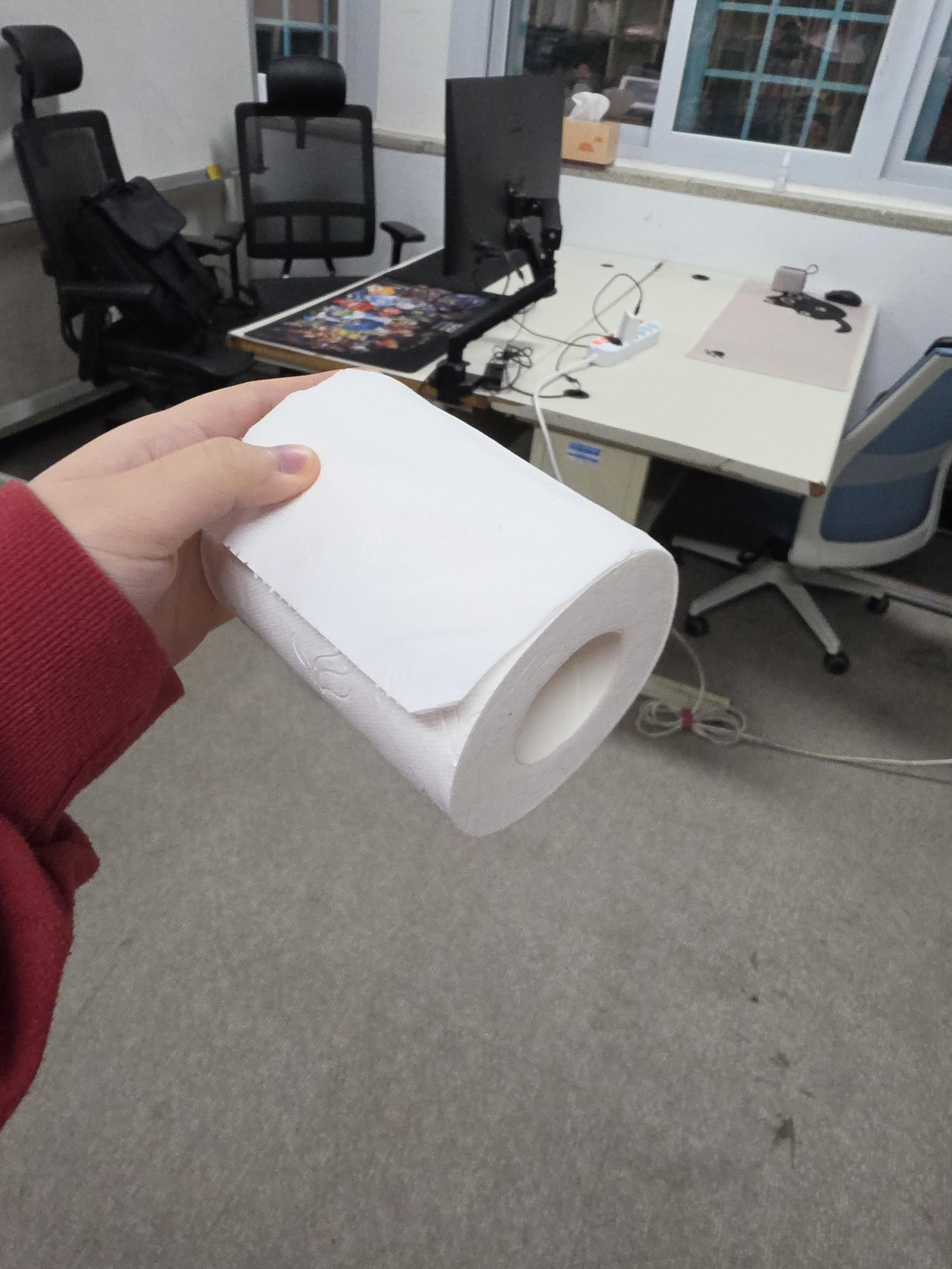tissue: (203, 366, 680, 839), (561, 90, 620, 165)
